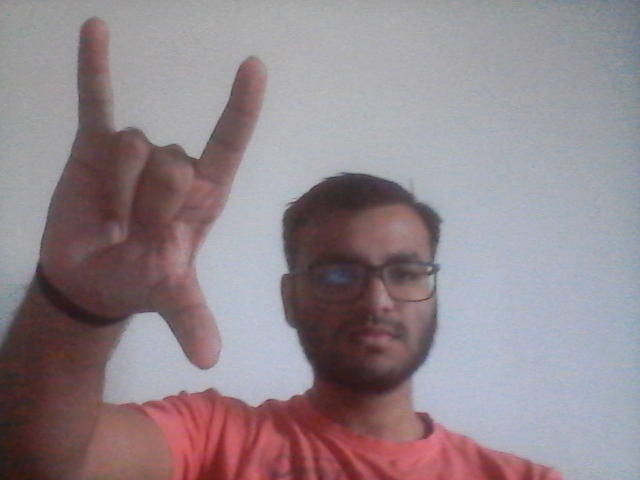I Love You: (38, 5, 267, 372)
